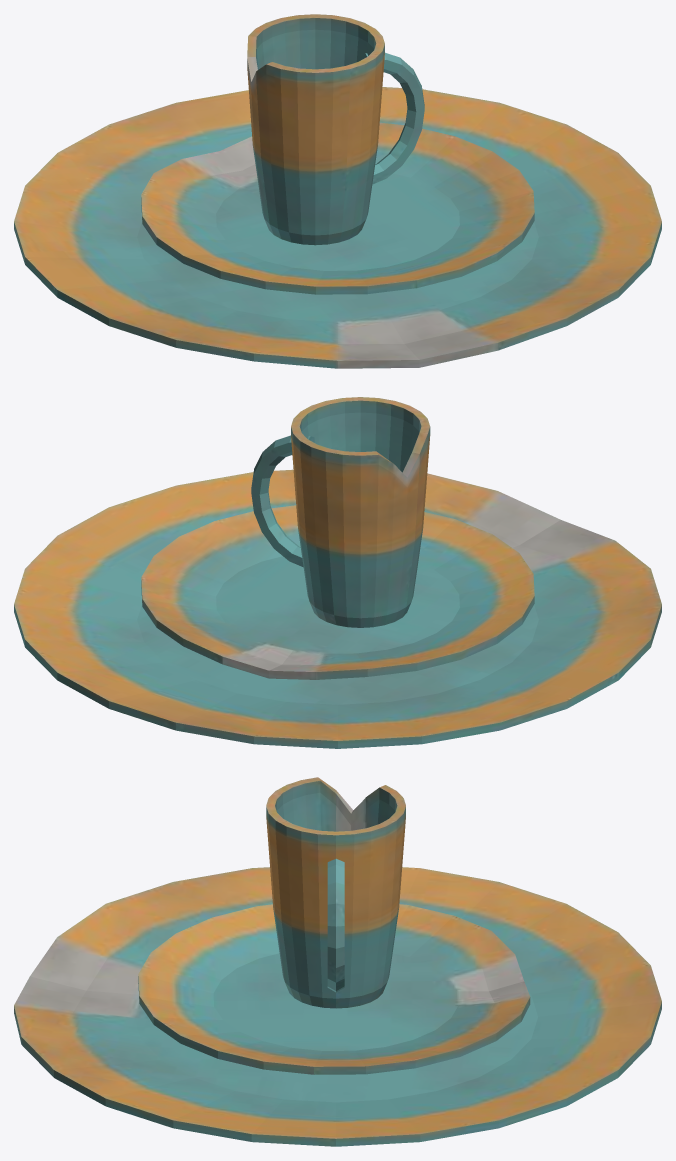
File: K19_plates_and_cups_set_v3.glb
3 renders of one model, top to bottom at view 1: azimuth 30°, elevation 25°; view 2: azimuth 150°, elevation 25°; view 3: azimuth 270°, elevation 25°, orthographic.
Visible parts, largest first — view 1: Chipped dinner plate; view 2: Chipped dinner plate; view 3: Chipped dinner plate.
Boxes of the visible parts, box(x1,y1,x2,y2) form: Chipped dinner plate: box(14, 14, 661, 368); Chipped dinner plate: box(14, 397, 661, 748); Chipped dinner plate: box(14, 777, 661, 1146).
Bounding box in the file's own units: 0.3 × 0.1097 × 0.2983.
3 materials, 3 textured.
